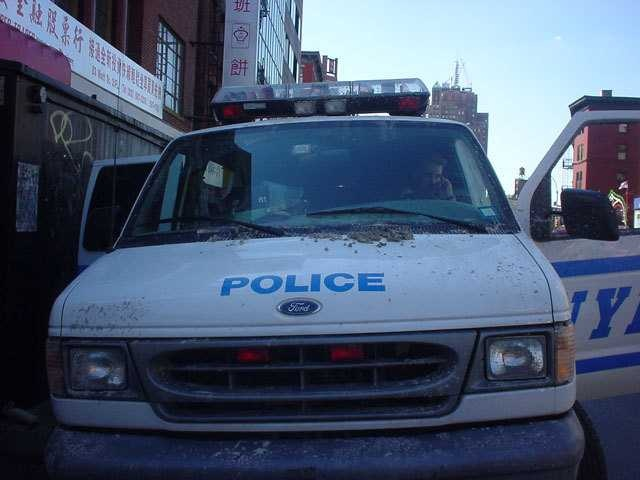Police Car: (73, 58, 619, 480)
